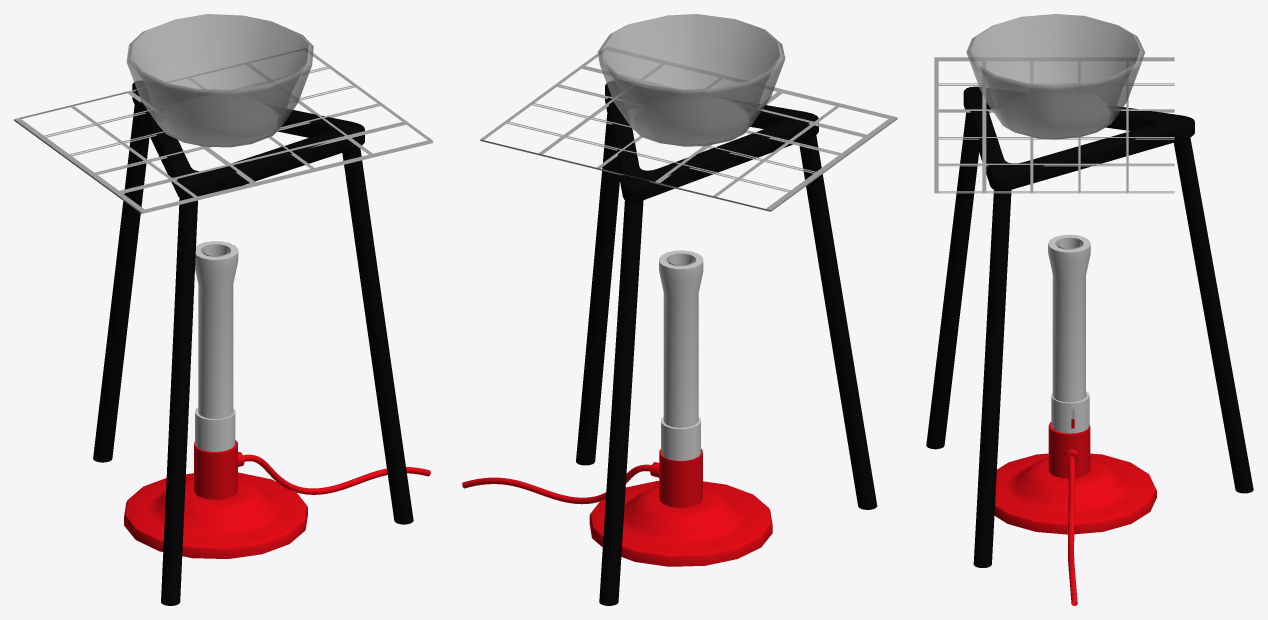
Rendered from recrystillizatio.fbx.
3 views of the same model, side by side, from view 1: azimuth 30°, elevation 25°; view 2: azimuth 150°, elevation 25°; view 3: azimuth 270°, elevation 25° (orthographic). The views are drawn at different scales.
Visible parts, largest first — view 1: Tripod, bunsen_burner, polySurface5, grill, polySurface6; view 2: Tripod, bunsen_burner, polySurface5, grill, polySurface6; view 3: Tripod, bunsen_burner, polySurface5, grill, polySurface6.
Part boxes in pixels (left/top/right/bottom): Tripod: left=93, top=81, right=413, bottom=605; bunsen_burner: left=124, top=241, right=430, bottom=558; polySurface5: left=126, top=14, right=313, bottom=147; grill: left=14, top=48, right=433, bottom=213; polySurface6: left=163, top=92, right=277, bottom=145; Tripod: left=576, top=81, right=877, bottom=605; bunsen_burner: left=462, top=250, right=772, bottom=566; polySurface5: left=597, top=14, right=785, bottom=146; grill: left=480, top=47, right=897, bottom=211; polySurface6: left=633, top=90, right=748, bottom=144; Tripod: left=926, top=86, right=1253, bottom=567; bunsen_burner: left=994, top=234, right=1156, bottom=605; polySurface5: left=966, top=14, right=1144, bottom=139; grill: left=934, top=57, right=1174, bottom=193; polySurface6: left=1001, top=91, right=1110, bottom=137.
Bounding box in the file's own units: 38.64 × 49.28 × 32.03.
